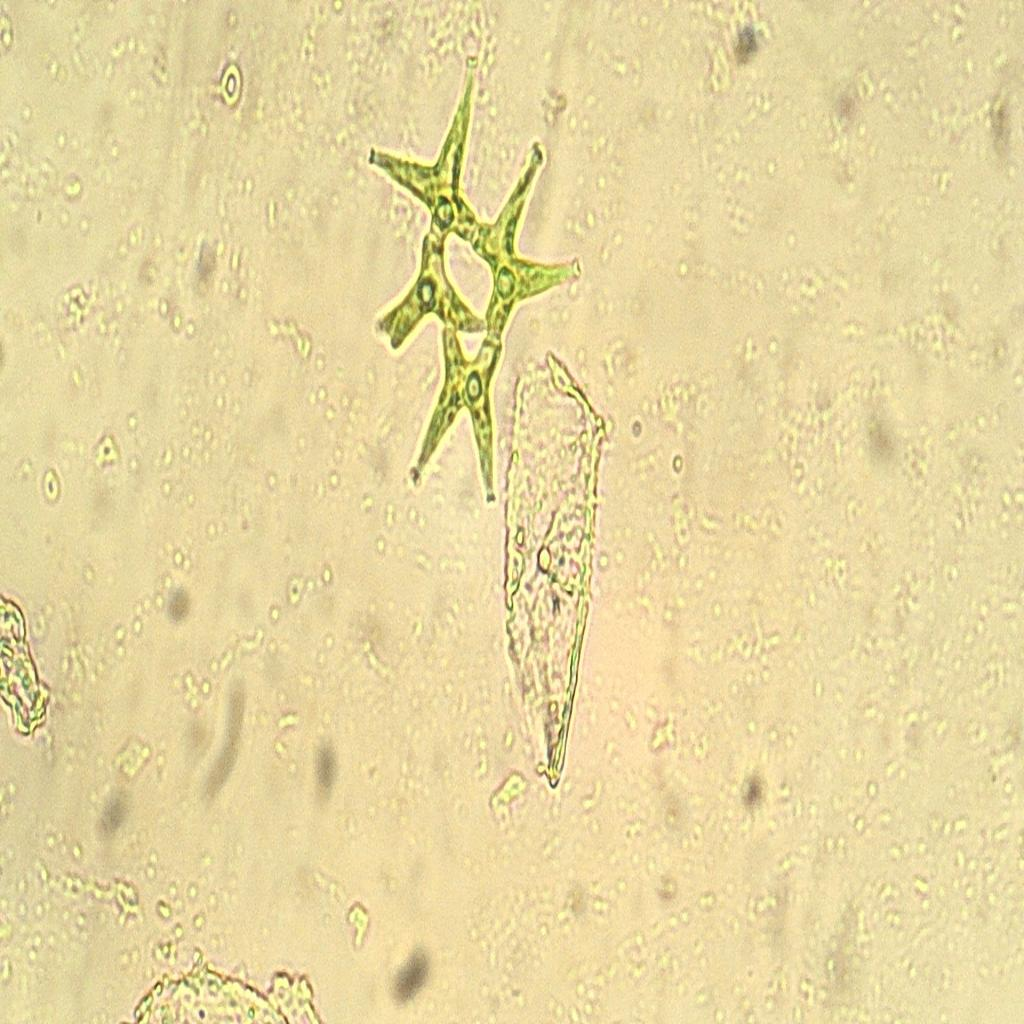Pediastrum_75FI: (348, 37, 590, 518)
